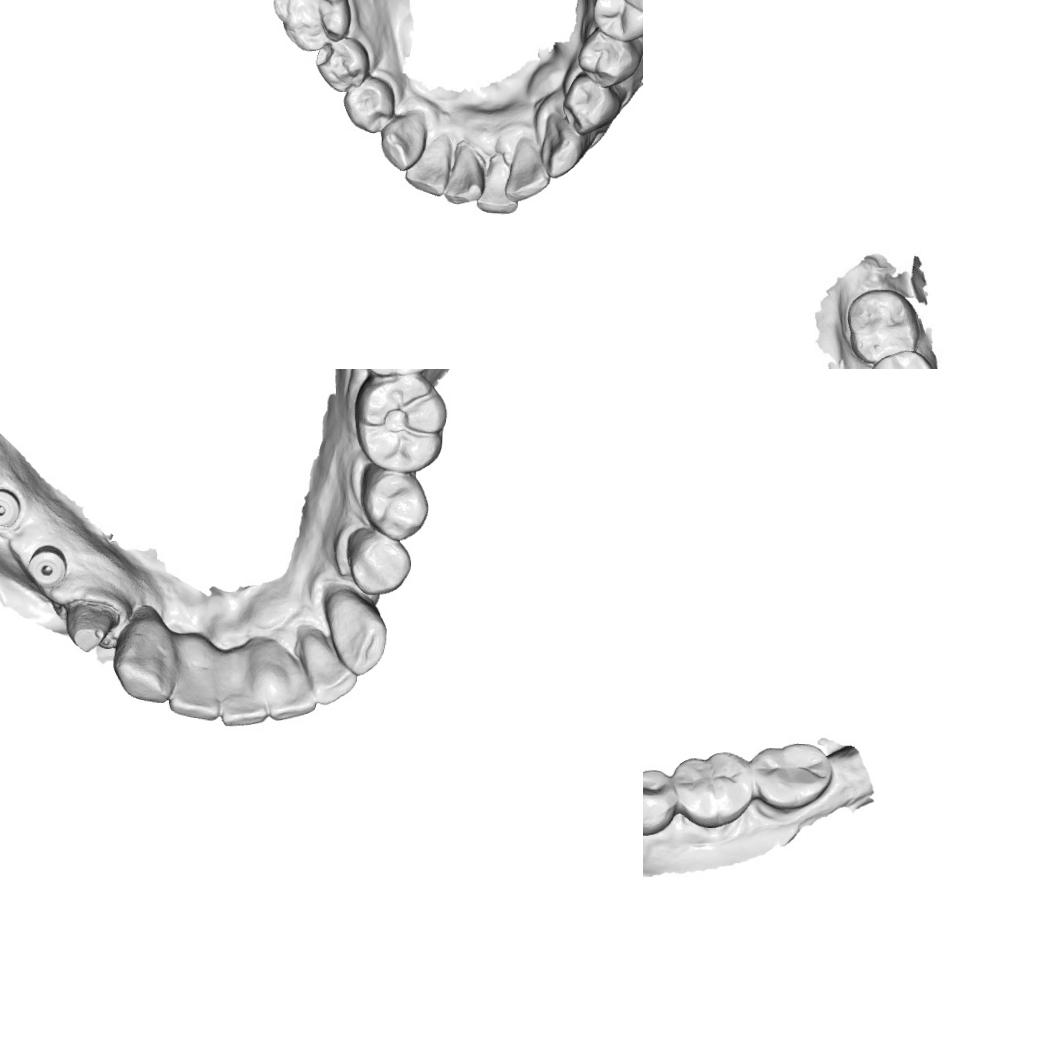canine: (112, 614, 178, 704), (331, 592, 390, 677), (538, 109, 586, 181), (378, 107, 429, 174)
crown: (59, 598, 119, 654)
implant: (27, 544, 68, 588), (0, 486, 21, 528)
incisor: (258, 654, 322, 731), (300, 637, 360, 709), (502, 137, 552, 204), (402, 134, 452, 198), (475, 149, 522, 216), (442, 140, 486, 206), (167, 672, 222, 724), (216, 679, 272, 729)
molar: (350, 372, 450, 473), (669, 748, 755, 831), (748, 740, 835, 814), (270, 0, 354, 54), (852, 292, 914, 360), (590, 0, 643, 45), (865, 353, 936, 369)
premolar: (355, 466, 431, 543), (574, 27, 642, 90), (348, 532, 412, 596), (311, 36, 375, 96), (560, 72, 621, 134), (340, 75, 398, 136), (643, 764, 678, 839)
